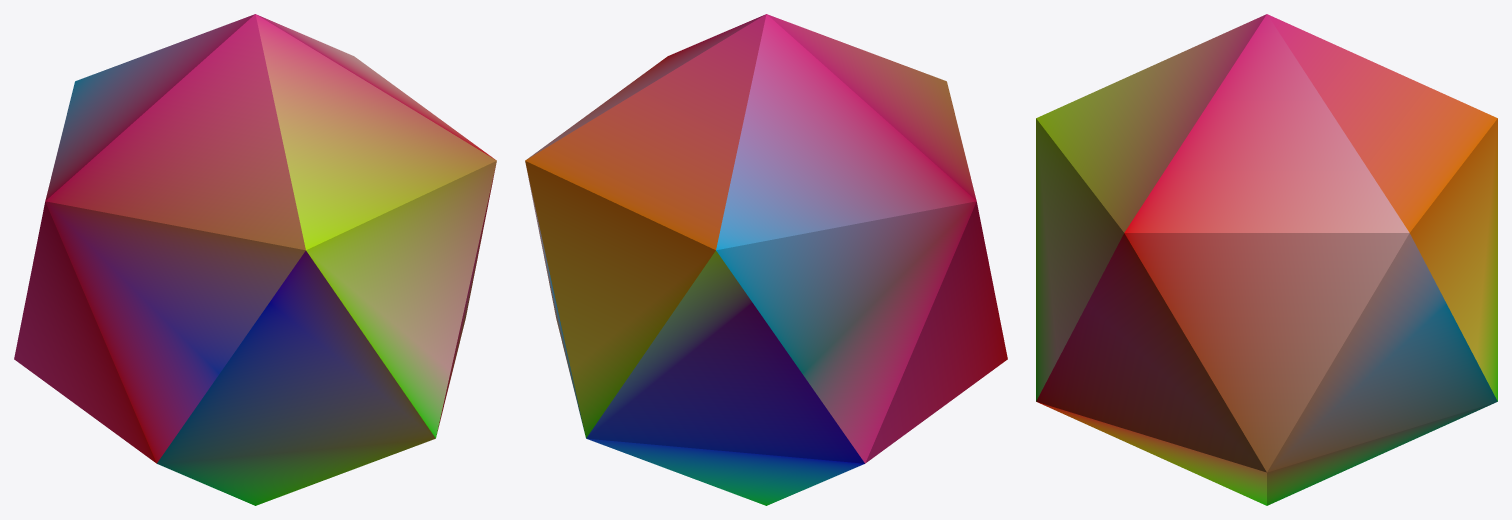
File: icosahedron.obj
The picture shows the model from 3 angles, left to right: view 1: azimuth 30°, elevation 25°; view 2: azimuth 150°, elevation 25°; view 3: azimuth 270°, elevation 25°; orthographic projection.
Visible parts, largest first — view 1: icosahedron; view 2: icosahedron; view 3: icosahedron.
Part boxes in pixels (x1=…): icosahedron: x1=14, y1=14, x2=496, y2=505; icosahedron: x1=525, y1=14, x2=1007, y2=505; icosahedron: x1=1036, y1=14, x2=1497, y2=505.
Size of the model in its own units: 17.01 by 19.02 by 16.18.
